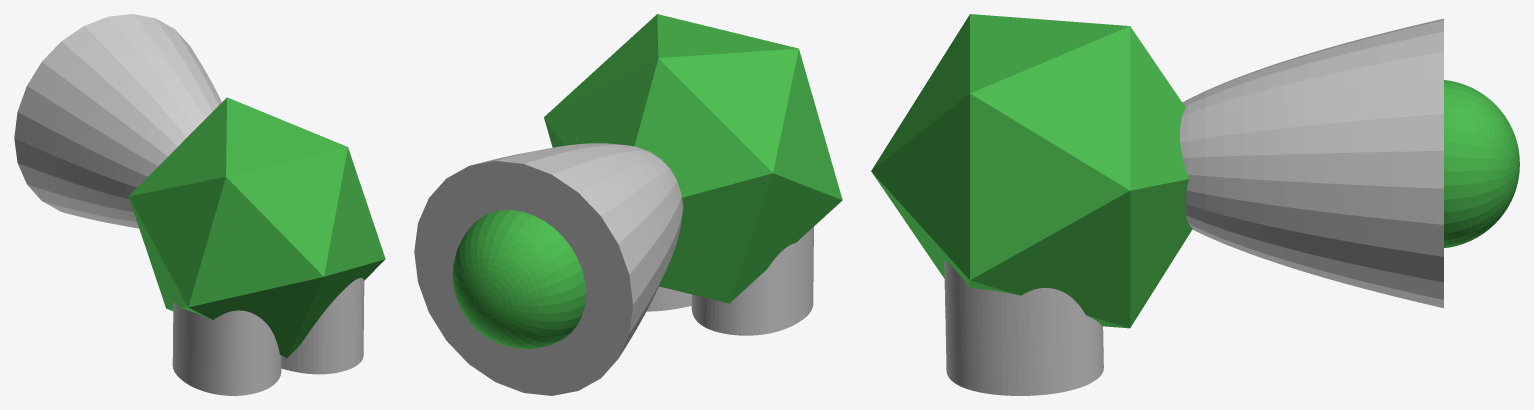
Rendered from tinker.obj.
The picture shows the model from 3 angles, left to right: view 1: azimuth 30°, elevation 25°; view 2: azimuth 150°, elevation 25°; view 3: azimuth 270°, elevation 25°; orthographic projection. The views are drawn at different scales.
Parts seen in each view (by area): view 1: group_0_4634441, group_0_3888547, group_0_40919; view 2: group_0_4634441, group_0_3888547, group_0_40919; view 3: group_0_4634441, group_0_3888547, group_0_40919.
Part boxes in pixels (box(x1,y1,x2,y2)): group_0_4634441: box(128, 97, 385, 357); group_0_3888547: box(14, 14, 221, 228); group_0_40919: box(172, 278, 364, 395); group_0_4634441: box(452, 14, 842, 348); group_0_3888547: box(414, 143, 683, 395); group_0_40919: box(646, 227, 813, 335); group_0_4634441: box(871, 14, 1519, 328); group_0_3888547: box(1180, 18, 1443, 308); group_0_40919: box(944, 261, 1103, 395).
Size of the model in its own units: 68.09 by 77.59 by 145.
